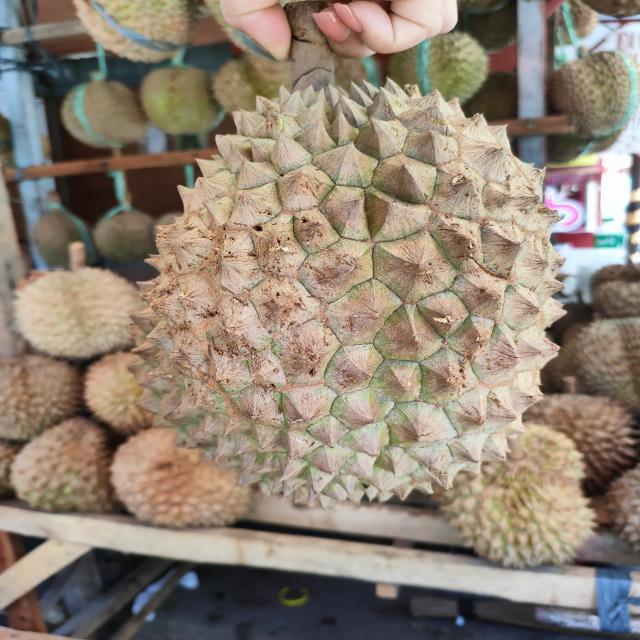mature: (118, 78, 568, 511)
